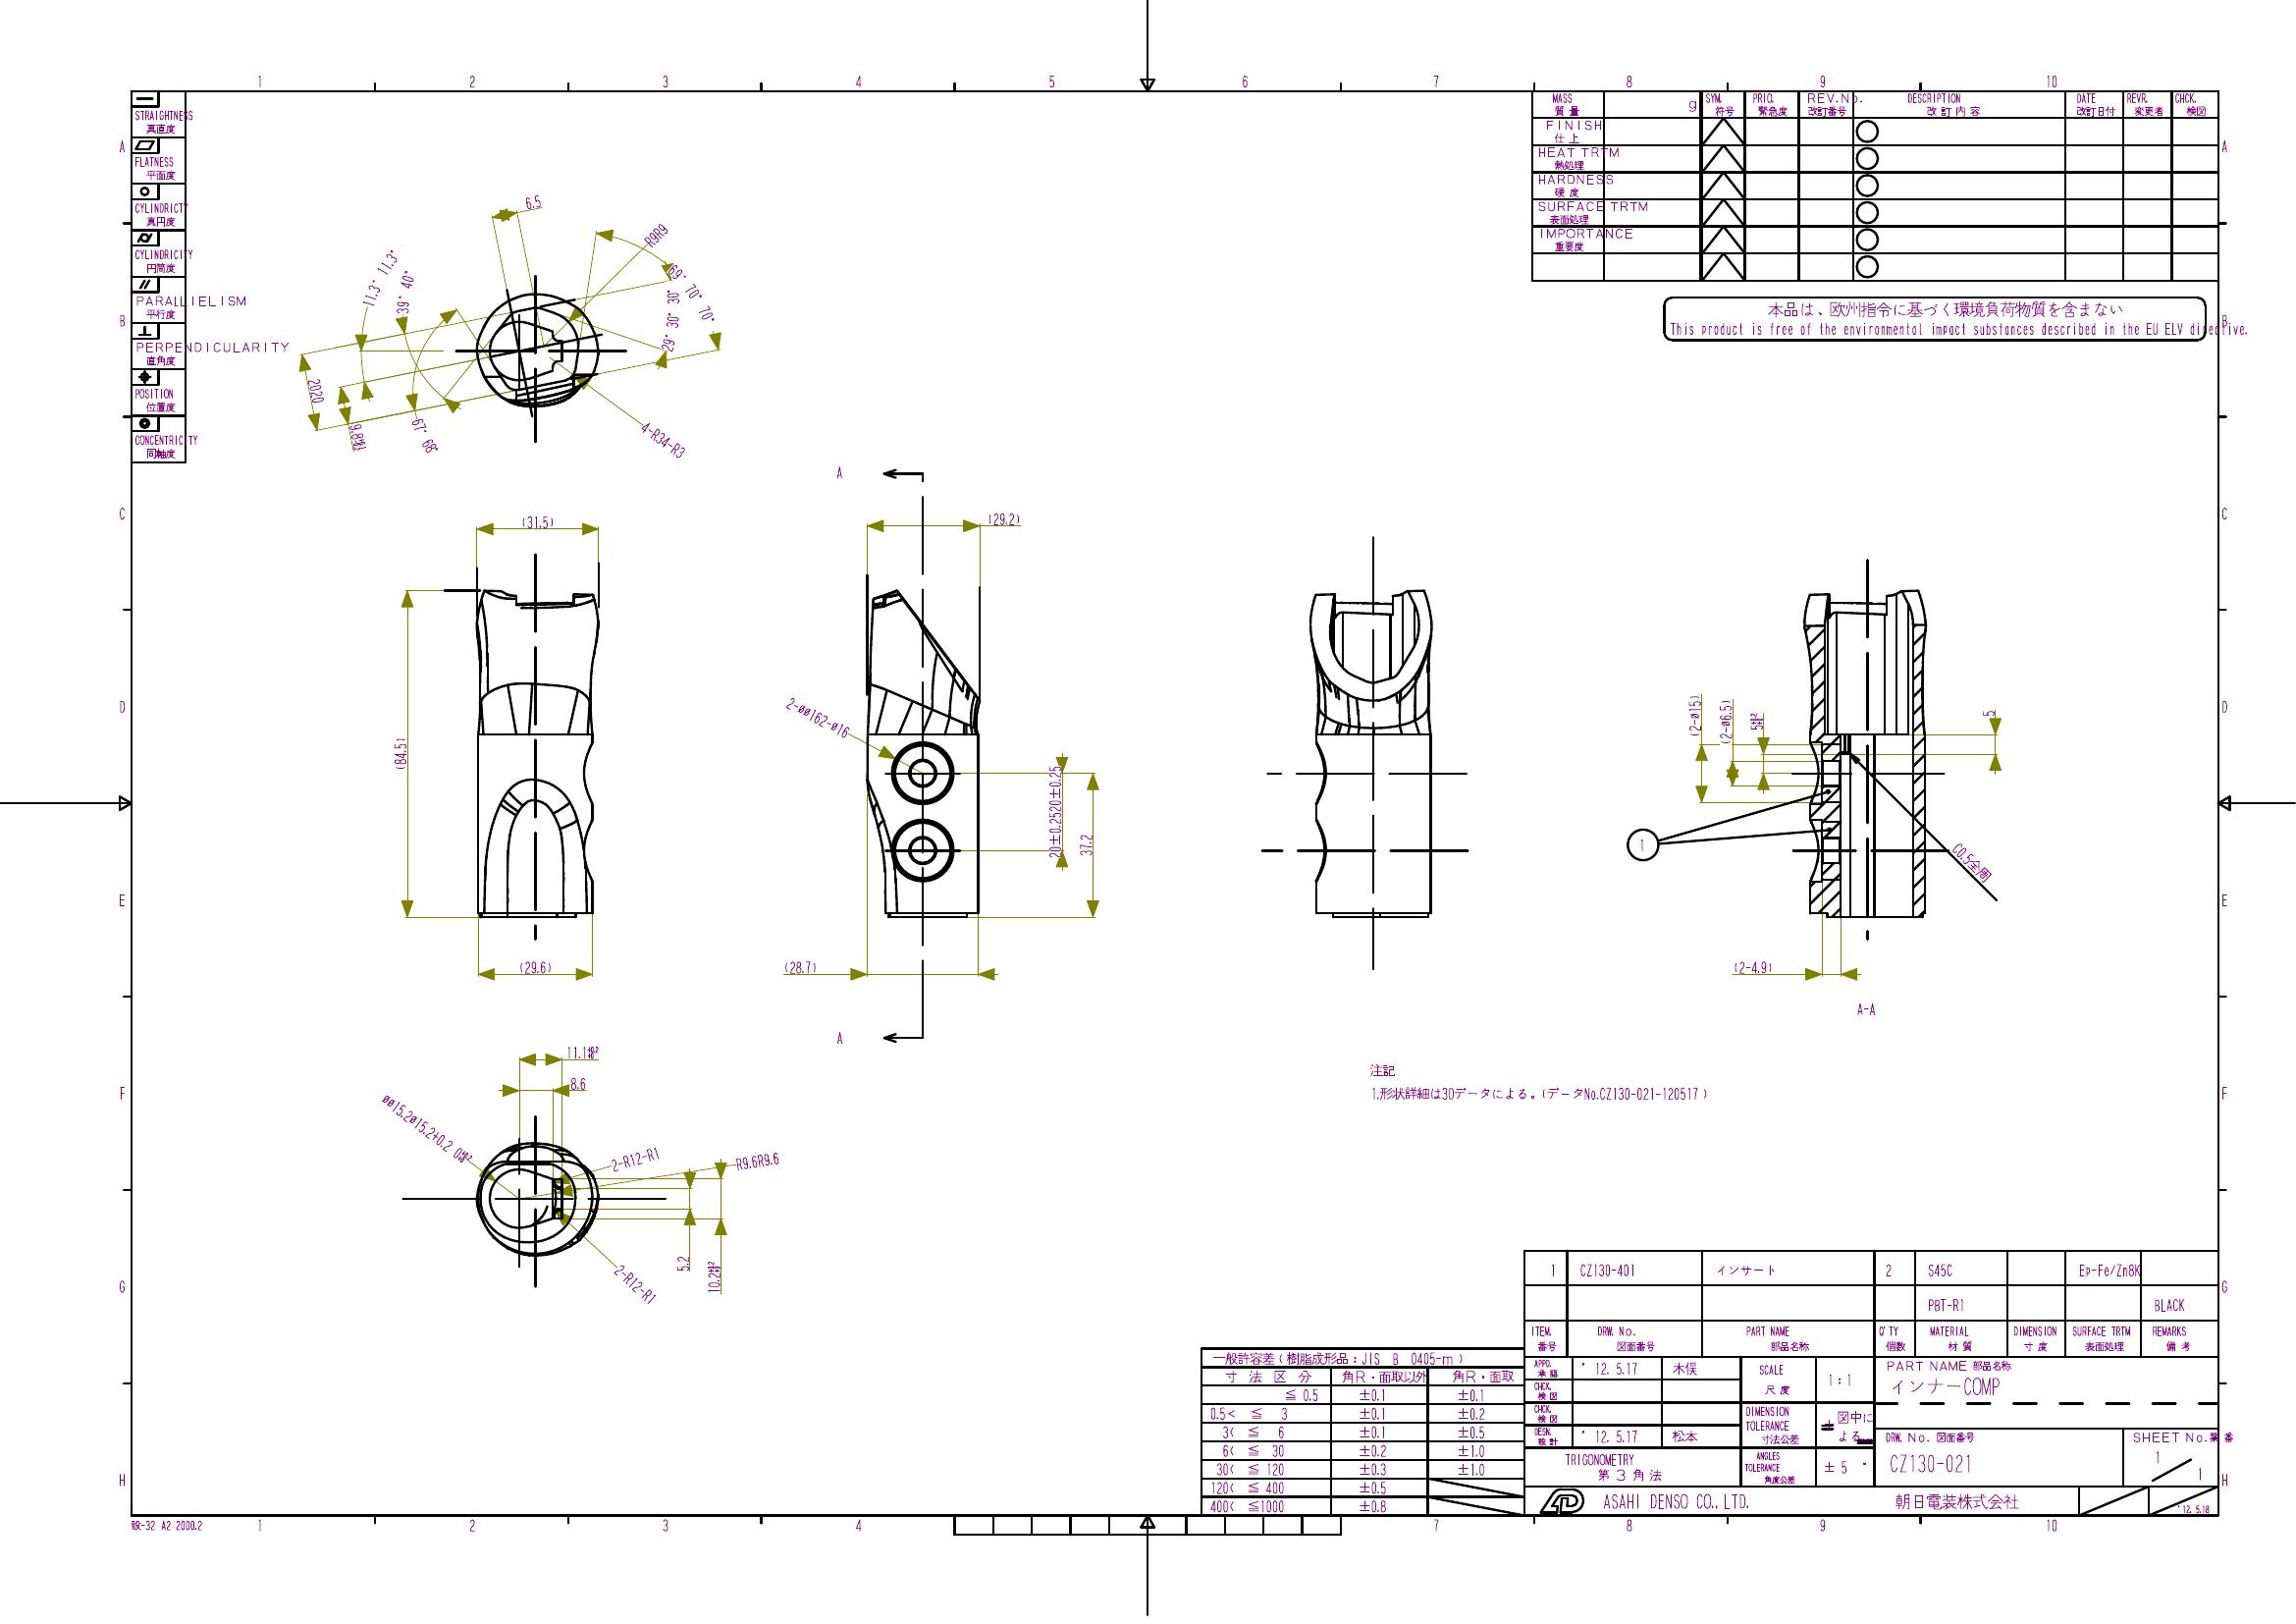anntotation_text: (1664, 295, 2250, 341), (1367, 1062, 1709, 1104), (130, 1517, 204, 1534), (1625, 826, 1660, 861), (1852, 1000, 1878, 1019), (831, 462, 848, 482), (833, 1028, 845, 1048)
dimension_text: (1045, 765, 1063, 861), (369, 1123, 485, 1137), (653, 283, 729, 302), (780, 708, 856, 726), (631, 431, 692, 450), (346, 271, 413, 288), (636, 313, 704, 329), (1683, 692, 1706, 736), (1946, 854, 1999, 872), (606, 1151, 661, 1167), (608, 1278, 662, 1294), (381, 283, 429, 301), (1730, 958, 1776, 975), (402, 427, 448, 445), (1716, 698, 1732, 745), (564, 1042, 603, 1062), (984, 510, 1022, 527), (733, 1153, 780, 1167), (390, 735, 408, 772), (515, 958, 552, 975), (520, 513, 555, 531), (782, 958, 817, 975), (704, 1258, 722, 1294), (306, 374, 323, 406), (639, 227, 673, 241), (348, 424, 365, 450), (1077, 831, 1093, 858), (566, 1074, 588, 1091), (1746, 710, 1764, 731), (673, 1253, 690, 1272), (522, 195, 545, 209), (1980, 708, 1994, 719)
object: (1307, 587, 1433, 919), (1801, 587, 1927, 919), (473, 587, 596, 919), (864, 587, 982, 919), (473, 1141, 599, 1258), (474, 292, 603, 408)
title_block: (1521, 1250, 2219, 1517), (1528, 88, 2220, 281), (1198, 1345, 1525, 1519), (128, 90, 188, 464)
